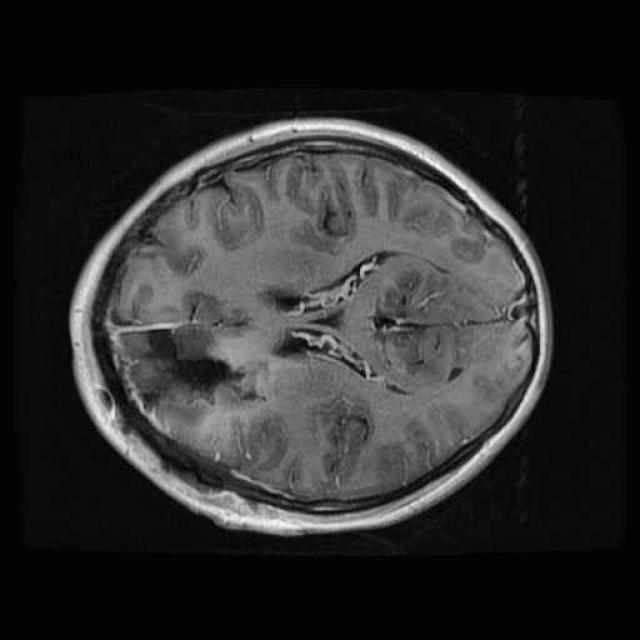Non-Tumor: (103, 300, 274, 451)
